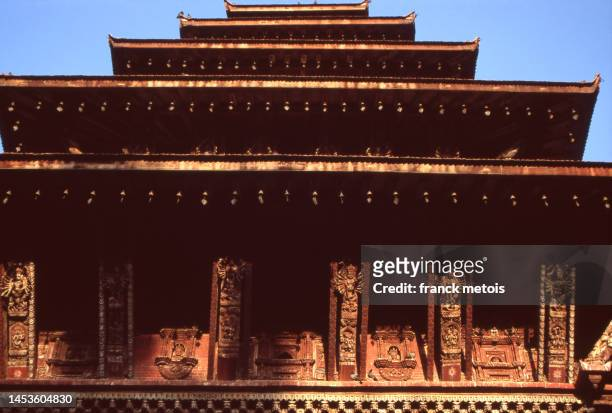nyathapola: (6, 2, 611, 243)
